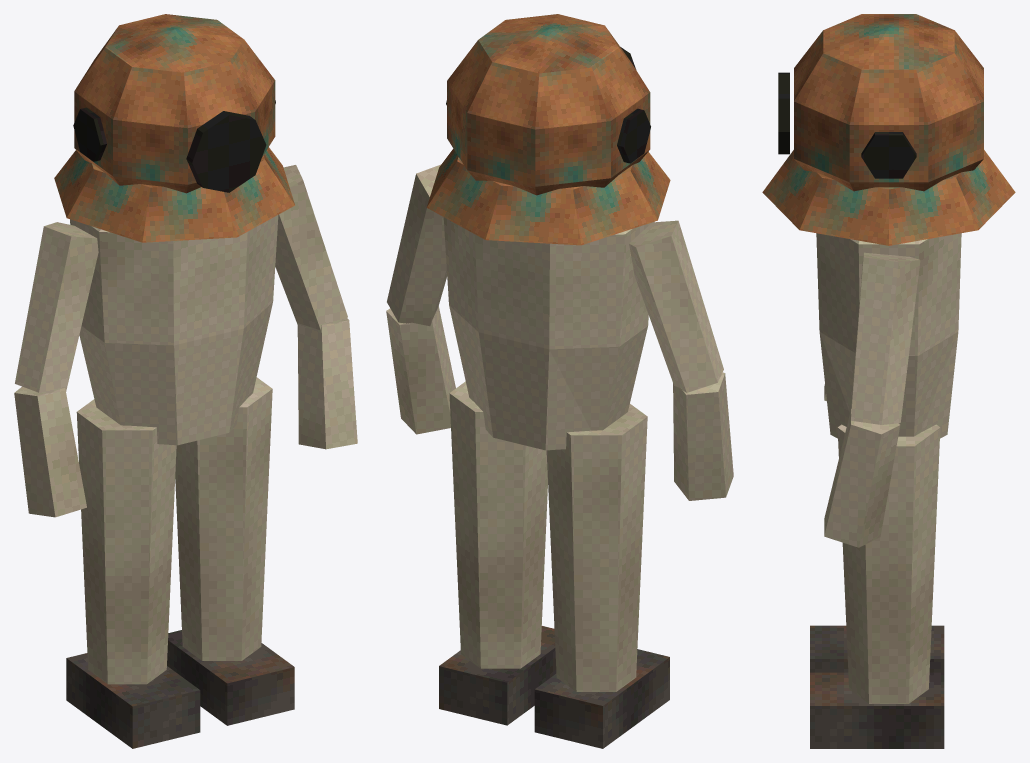
The model's file is buzo.obj.
3 views of the same model, side by side, from view 1: azimuth 30°, elevation 25°; view 2: azimuth 150°, elevation 25°; view 3: azimuth 270°, elevation 25° (orthographic).
Parts seen in each view (by area): view 1: buzo; view 2: buzo; view 3: buzo.
Boxes of the visible parts, left/top/right/bottom form: buzo: left=14, top=14, right=357, bottom=748; buzo: left=386, top=14, right=733, bottom=748; buzo: left=762, top=14, right=1015, bottom=748.
Size of the model in its own units: 0.9724 by 1.9 by 0.64.
4 materials, 4 textured.
